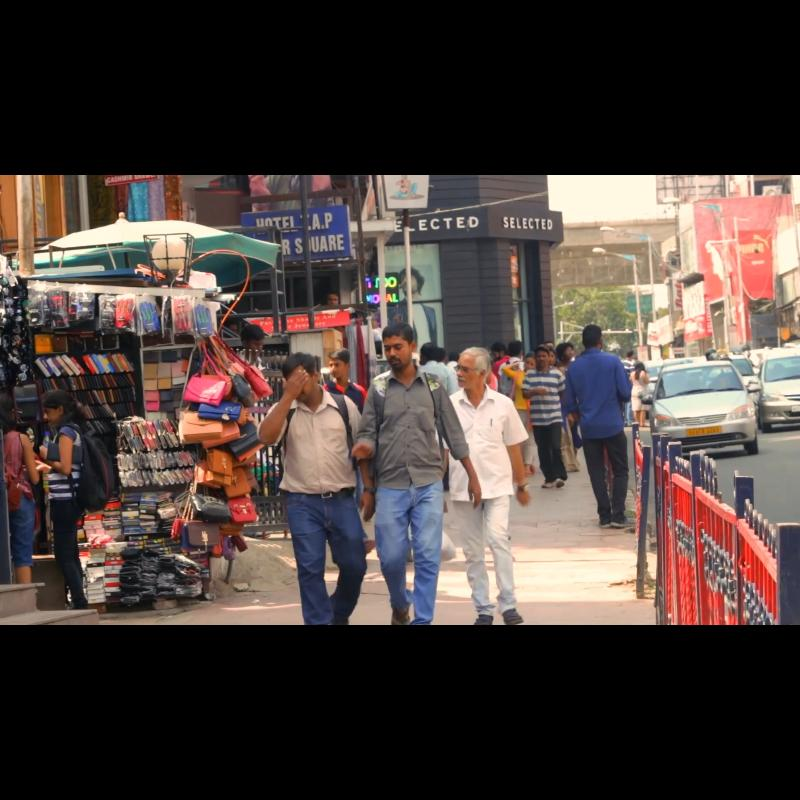Jeans: (370, 475, 458, 625), (266, 493, 360, 624)
Pant: (452, 496, 544, 616)
Shirt: (362, 382, 466, 486), (446, 385, 532, 502), (262, 403, 358, 497), (567, 358, 649, 442)
Tshirt: (524, 368, 572, 443)
